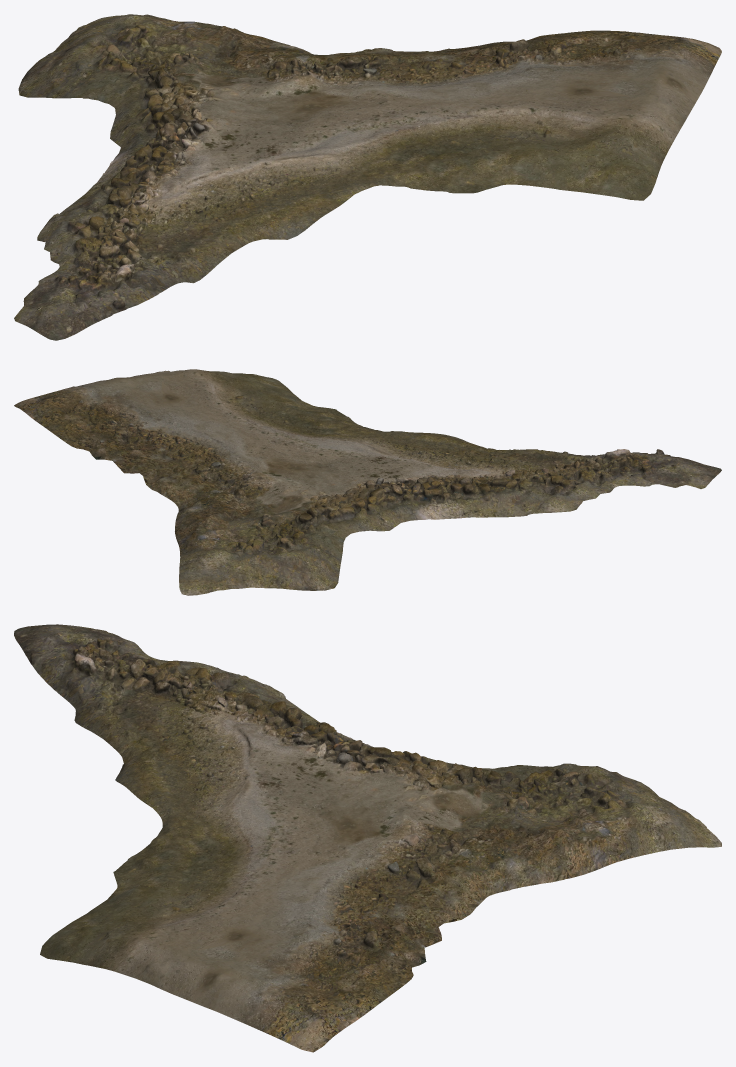
The model's file is coast_rocks_01.glb.
3 views of the same model, one above another, from view 1: azimuth 30°, elevation 25°; view 2: azimuth 150°, elevation 25°; view 3: azimuth 270°, elevation 25° (orthographic). The views are drawn at different scales.
Parts seen in each view (by area): view 1: coast_rocks_01_LOD2; view 2: coast_rocks_01_LOD2; view 3: coast_rocks_01_LOD2.
Boxes of the visible parts, x1=… form: coast_rocks_01_LOD2: x1=14, y1=14, x2=721, y2=340; coast_rocks_01_LOD2: x1=14, y1=369, x2=721, y2=595; coast_rocks_01_LOD2: x1=14, y1=624, x2=721, y2=1052.
Bounding box in the file's own units: 59.5 × 3.29 × 42.52.
Materials: 1 (1 with a texture image).
